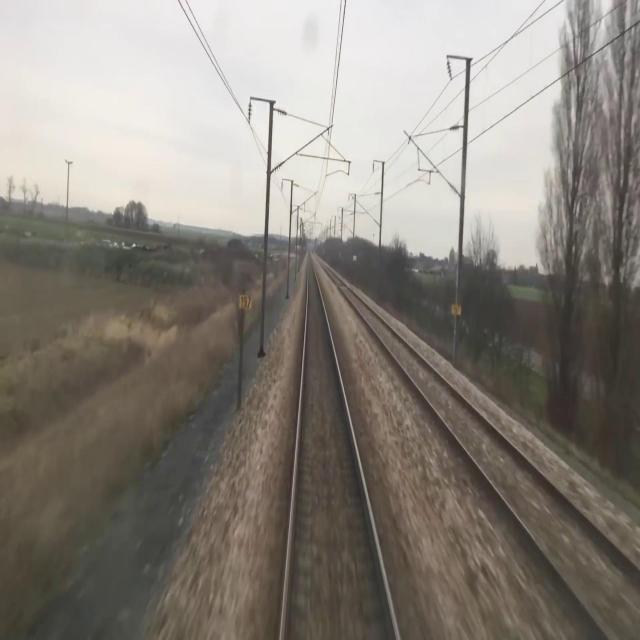rail-track: (317, 258, 638, 639), (284, 259, 396, 639)
